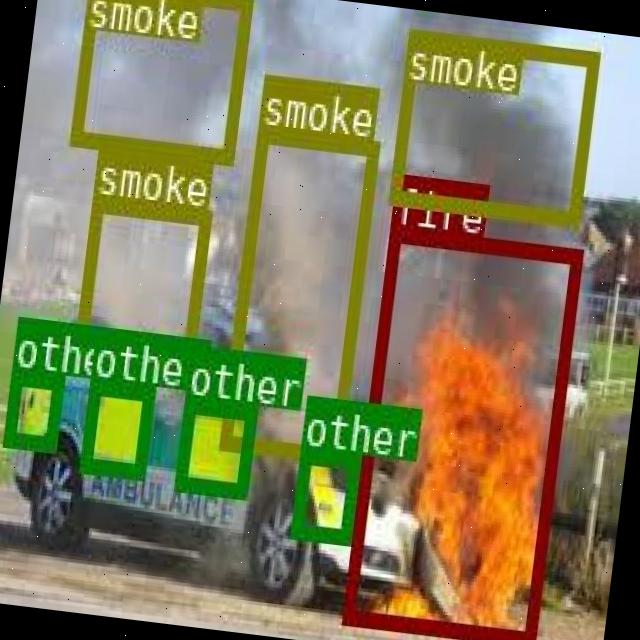fire: (340, 223, 581, 640)
smoke: (218, 125, 378, 458), (387, 27, 598, 225), (69, 0, 251, 162), (74, 194, 210, 364)
